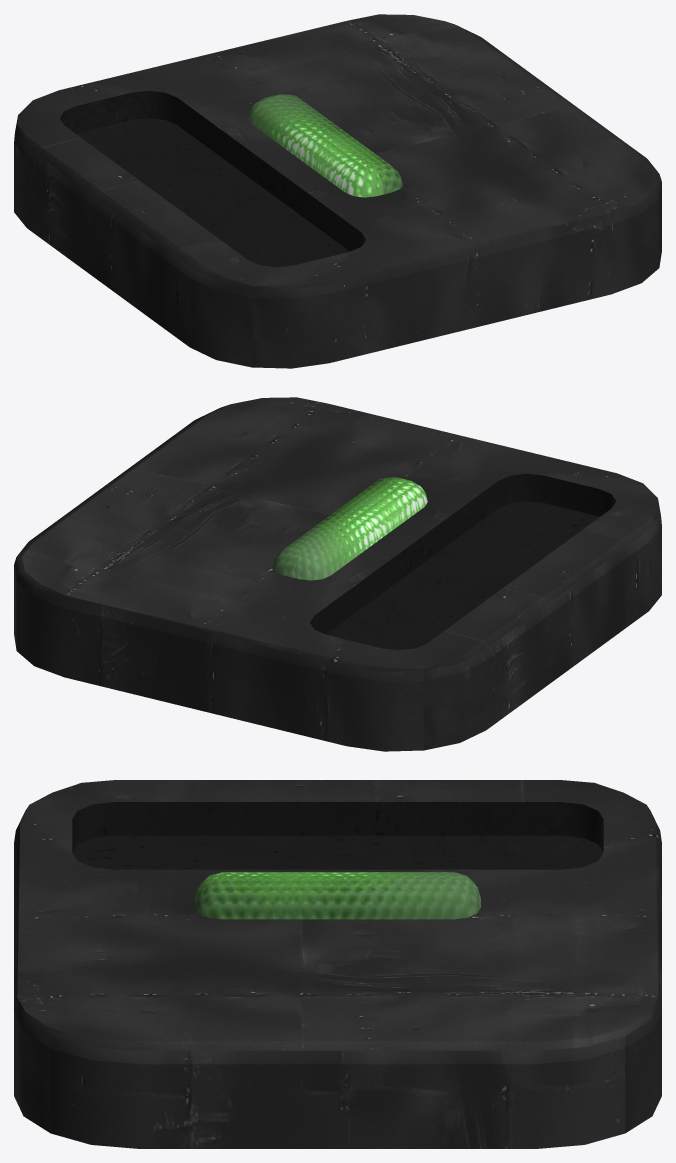
File: F_WeaponSelect_Button_01.fbx
3 views of the same model, one above another, from view 1: azimuth 30°, elevation 25°; view 2: azimuth 150°, elevation 25°; view 3: azimuth 270°, elevation 25° (orthographic). The views are drawn at different scales.
Visible parts, largest first — view 1: F_WeaponSelect_Button_01; view 2: F_WeaponSelect_Button_01; view 3: F_WeaponSelect_Button_01.
Boxes of the visible parts, box(x1,y1,x2,y2) form: F_WeaponSelect_Button_01: box(14, 14, 661, 368); F_WeaponSelect_Button_01: box(14, 397, 661, 751); F_WeaponSelect_Button_01: box(14, 780, 661, 1148).
Bounding box in the file's own units: 34.22 × 7.41 × 34.22.
1 material, 1 textured.
